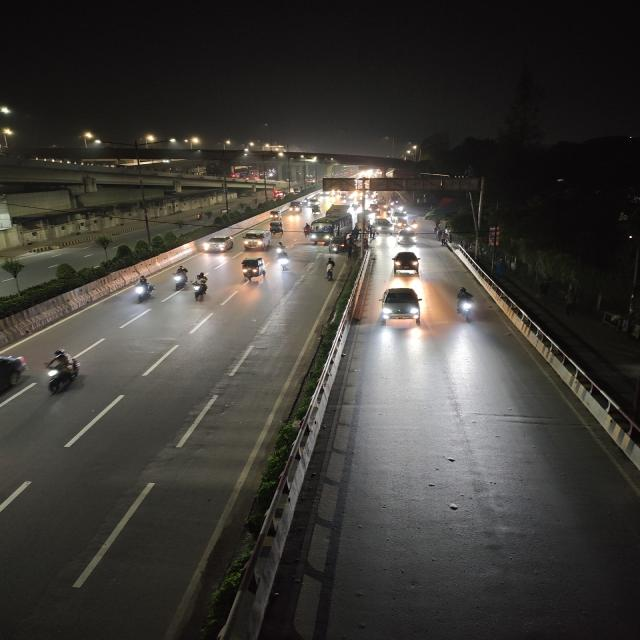bicycle: (323, 258, 338, 282)
bus: (302, 214, 354, 246)
car: (375, 285, 426, 329), (389, 250, 423, 276), (198, 234, 234, 254), (241, 229, 271, 251), (394, 230, 422, 248), (371, 219, 396, 235)
cng: (0, 352, 29, 404), (237, 256, 269, 284), (330, 237, 353, 255), (268, 221, 287, 237), (267, 210, 284, 222)
motorcycle: (38, 347, 85, 399), (452, 284, 480, 324), (130, 275, 158, 307), (191, 272, 212, 304), (274, 242, 294, 272), (170, 264, 191, 292)
pedestrian: (323, 260, 337, 282)
truck: (288, 202, 303, 214)
